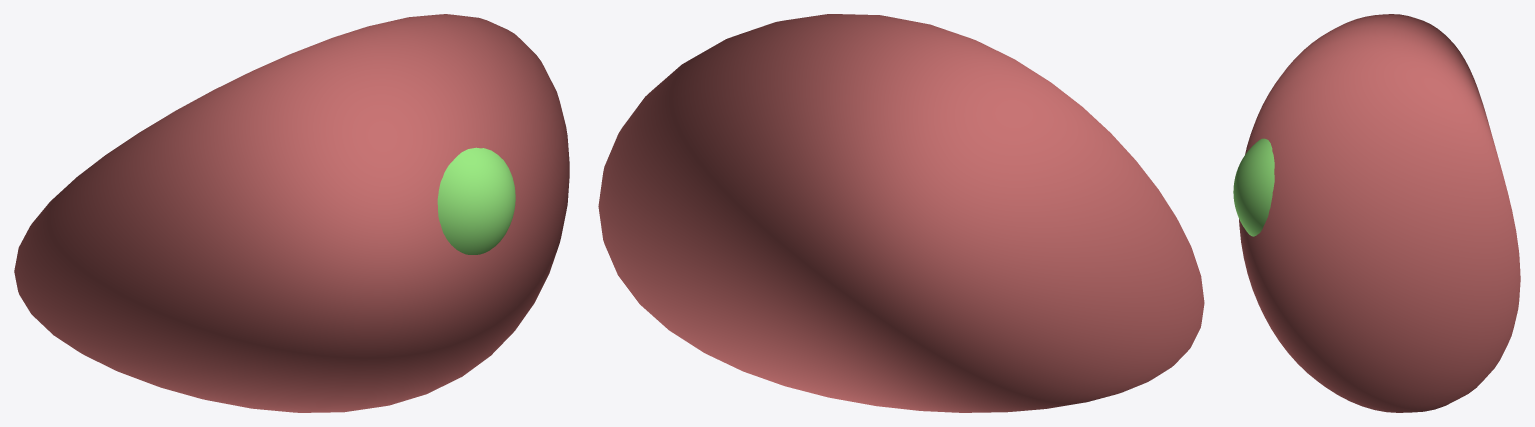
File: liver_tumor.glb
3 views of the same model, side by side, from view 1: azimuth 30°, elevation 25°; view 2: azimuth 150°, elevation 25°; view 3: azimuth 270°, elevation 25° (orthographic). The views are drawn at different scales.
Size of the model in its own units: 4 by 2.46 by 1.98.
